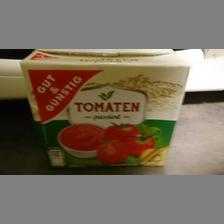Tomatensauce: (18, 49, 190, 167)
